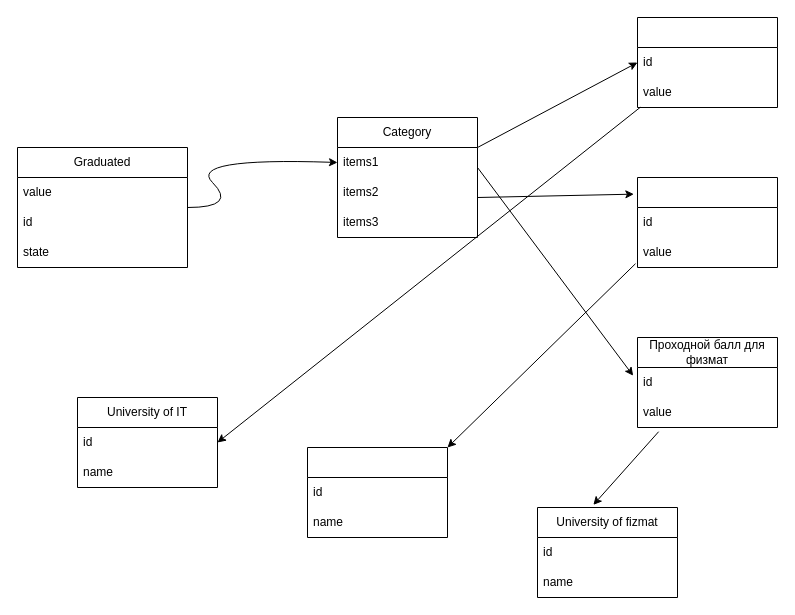
Some shapes in this 795 by 615 pixel diagram are drawn without their labels. Each missing label, with the box of its shape:
University of bio: (306, 446, 448, 538)
Проходной балл био хим: (636, 176, 778, 268)
Проходной балл инфо мат: (636, 16, 778, 108)
